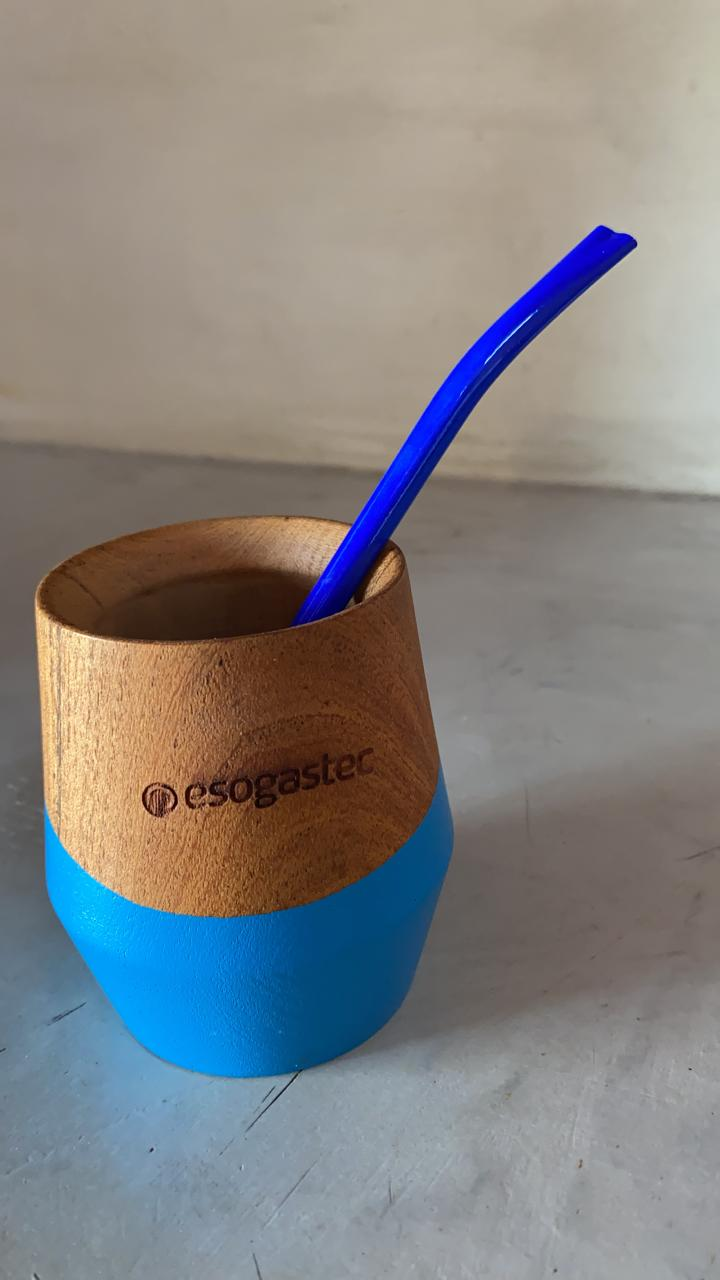mate: (30, 521, 463, 1084)
